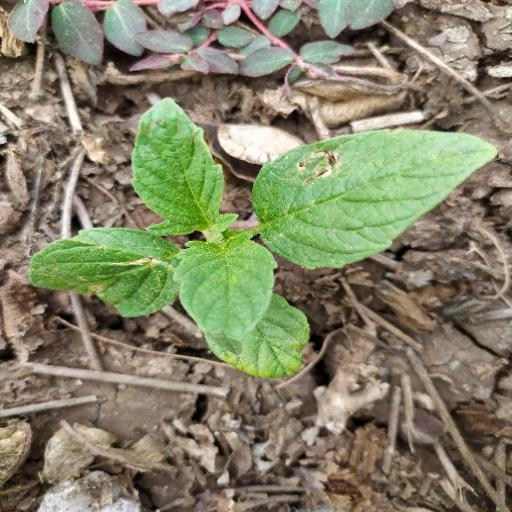crop: (17, 95, 499, 383)
